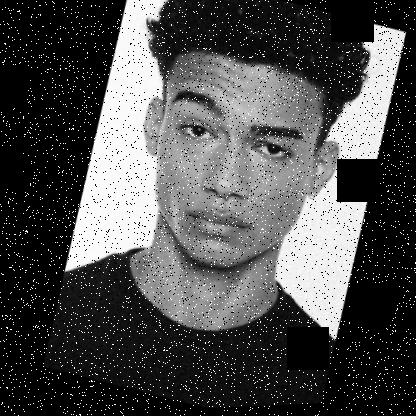Male: (102, 32, 364, 297)
